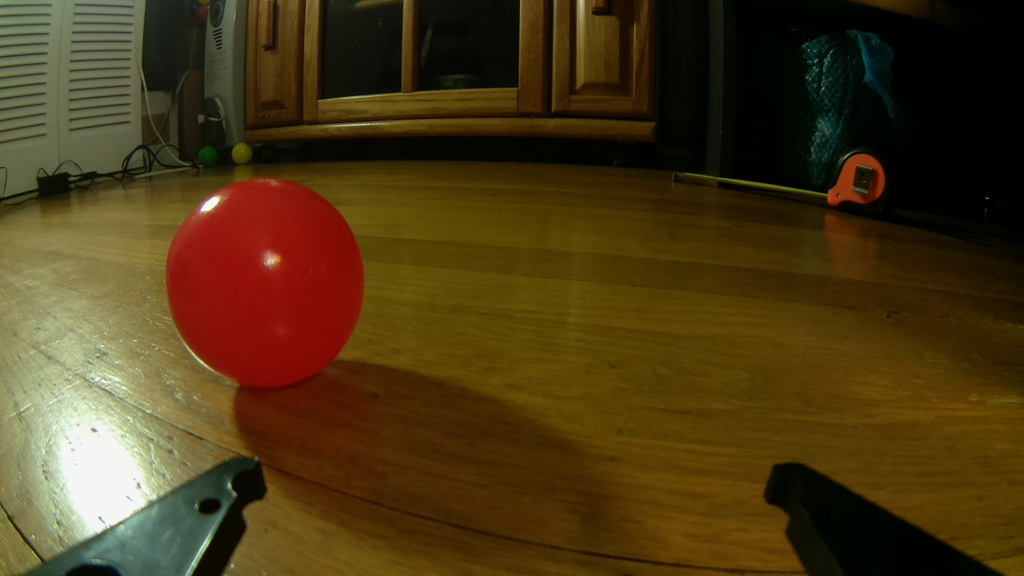ball: (164, 175, 368, 394)
